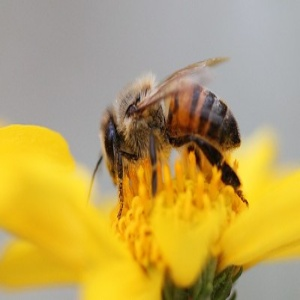bee: (98, 54, 254, 220)
